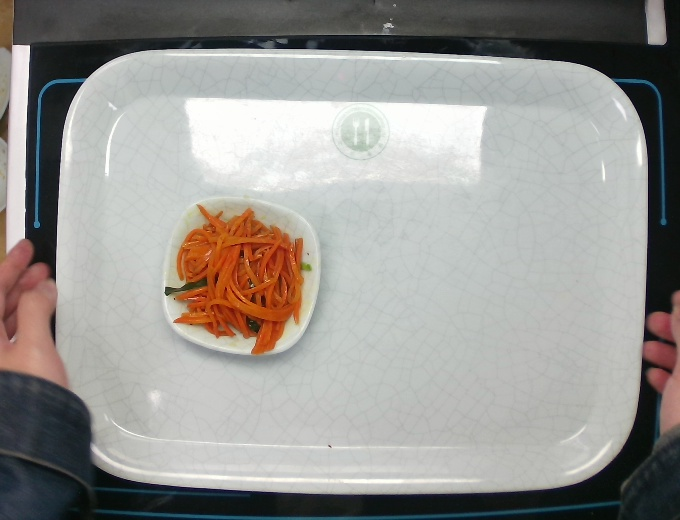JYsf-Si_Fang_Die: (161, 191, 324, 361)
